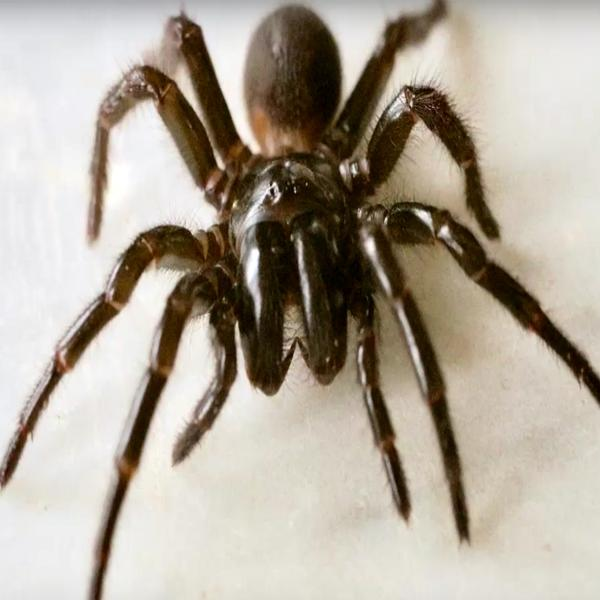Funnel Web Spider: (17, 9, 596, 576)
